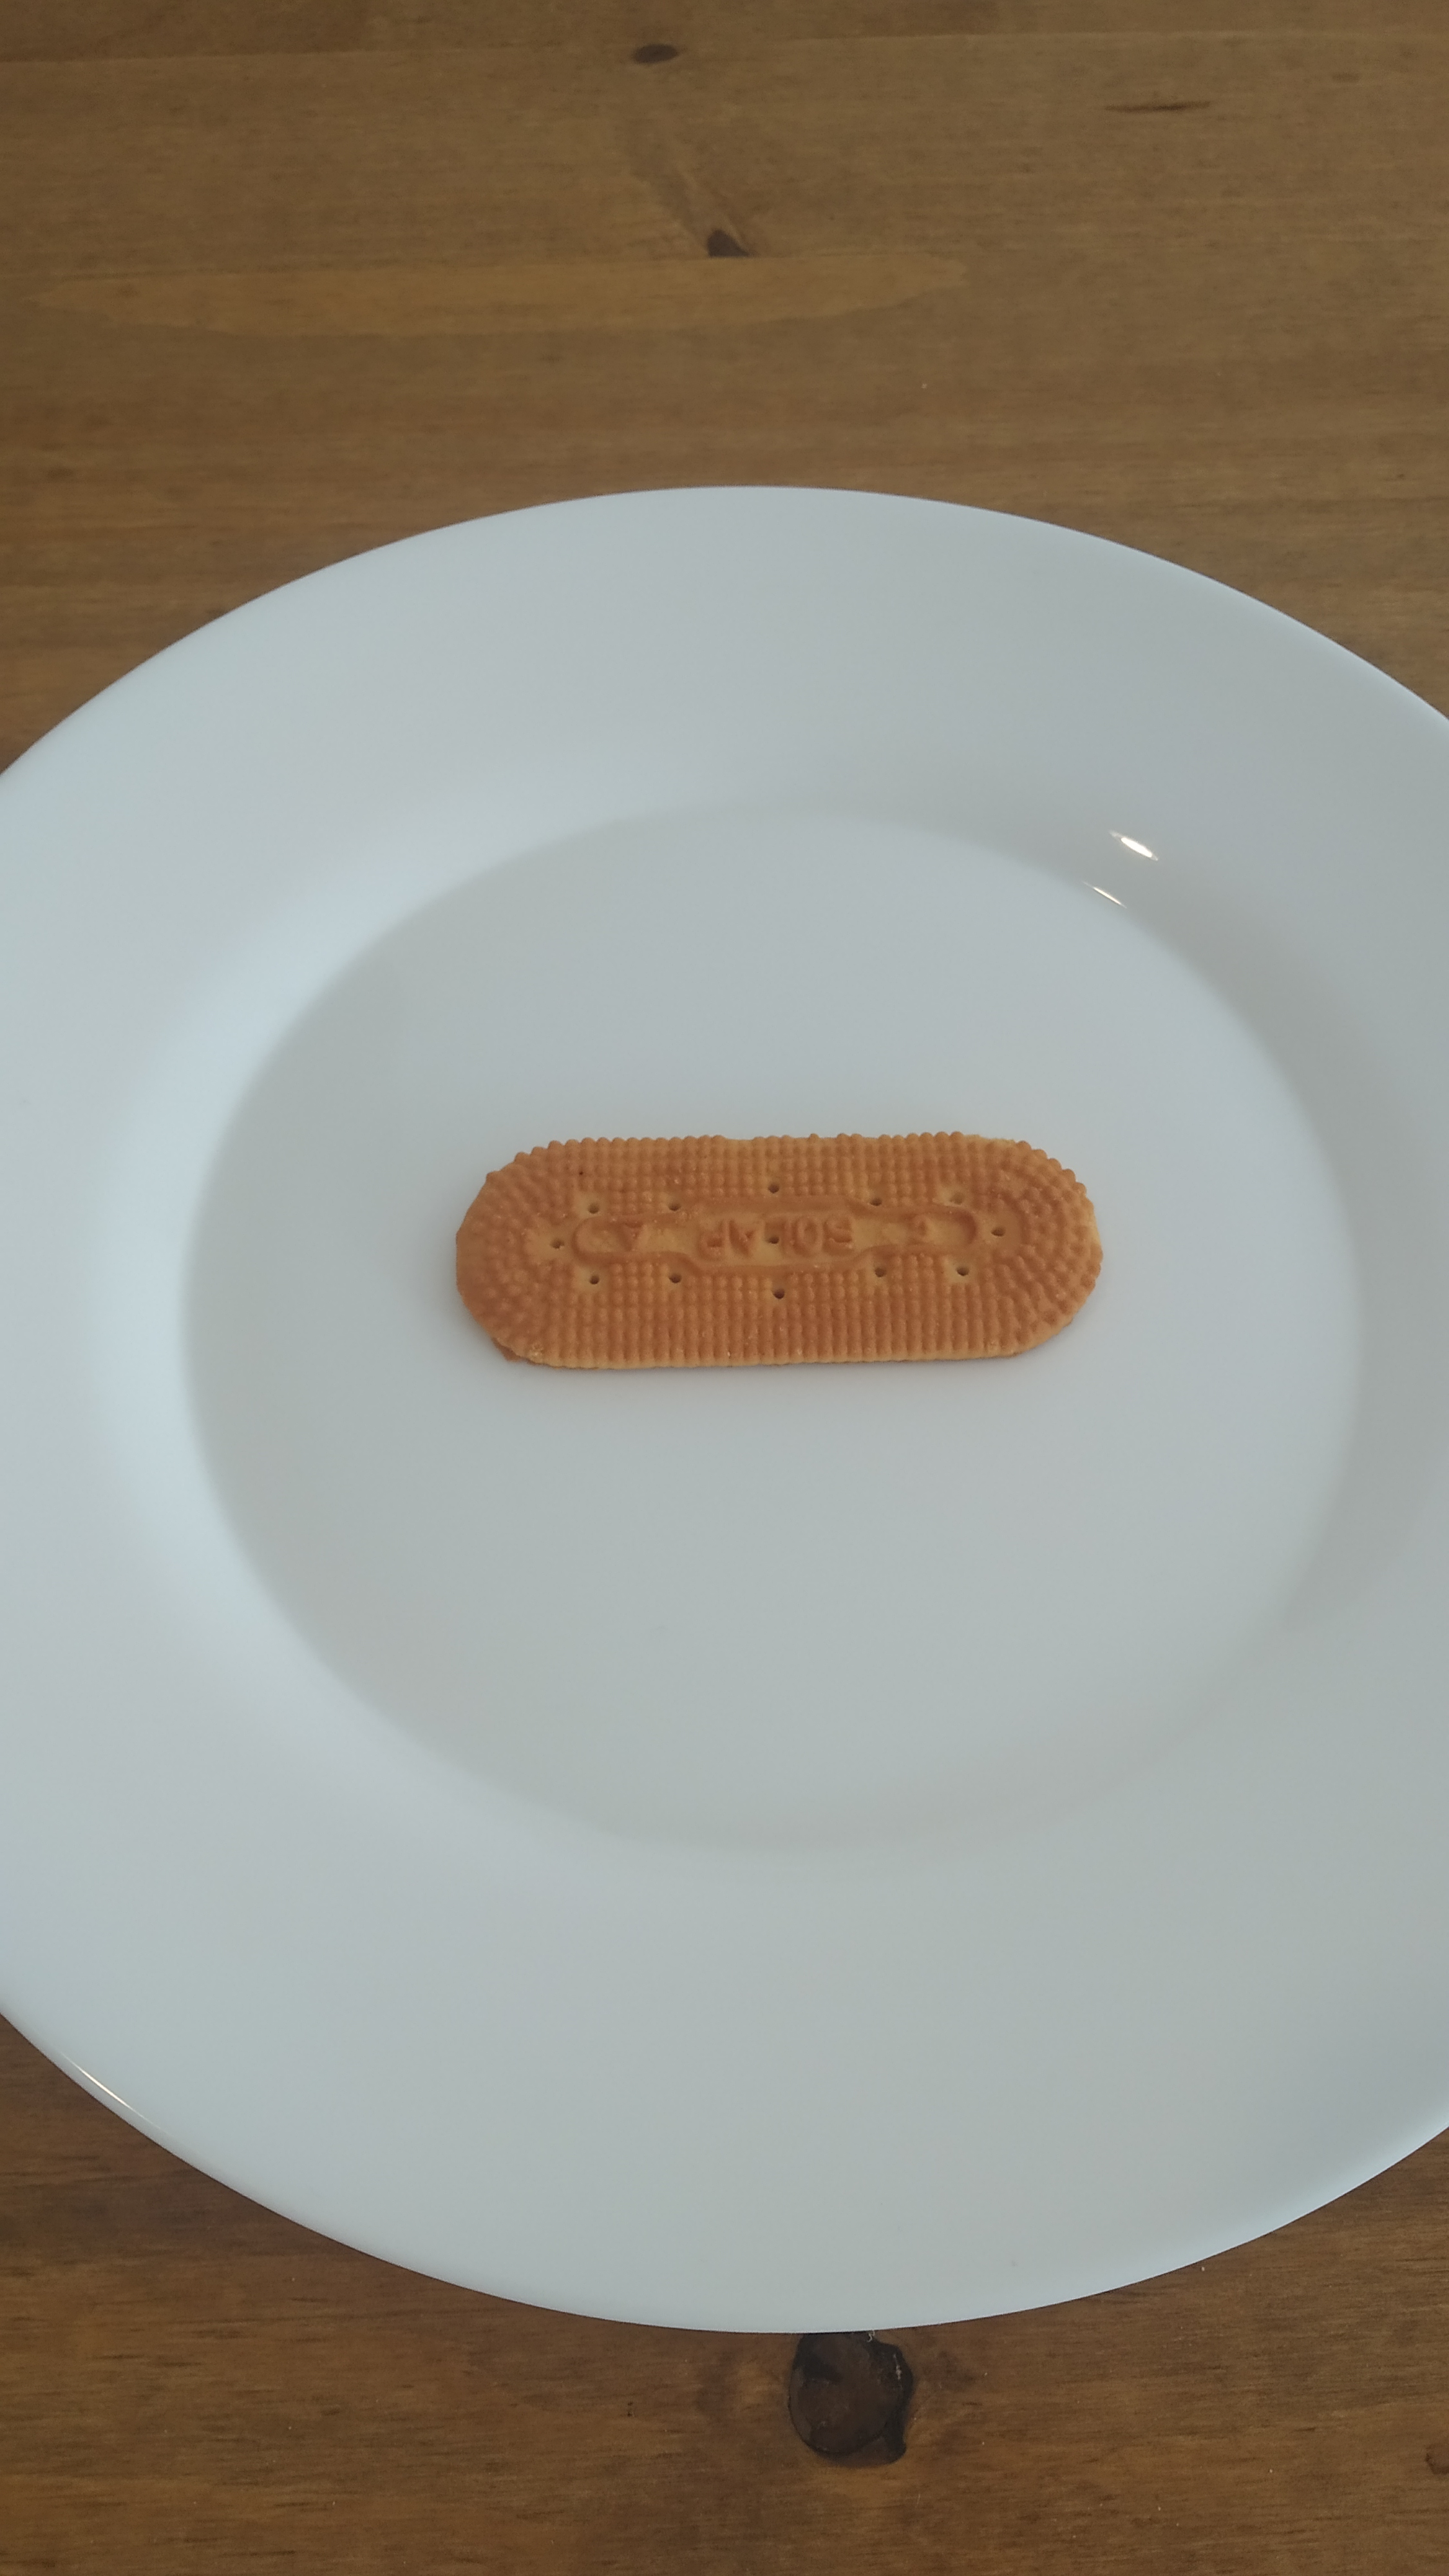solar: (455, 1132, 1102, 1369)
